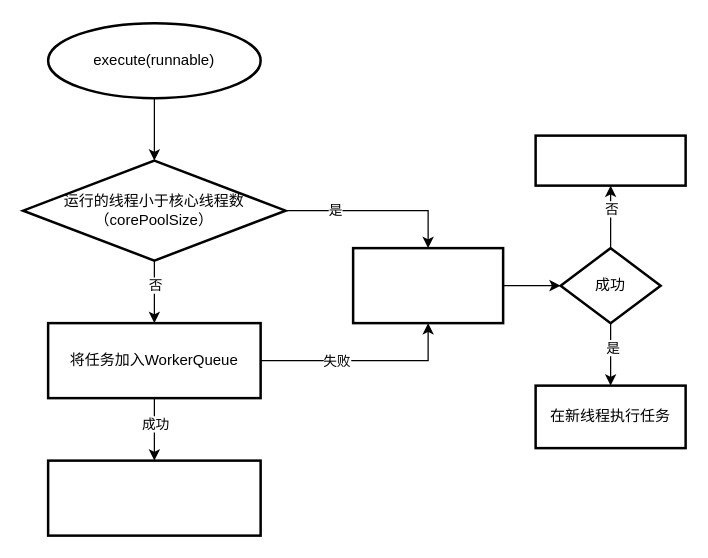
The diagram is 708 pixels wide and 558 high, and some of its shapes have lost their labels. Each missing label, with the centre of its shape:
"拒绝任务" goes at point (610, 160).
"新建线程" goes at point (427, 285).
"等待执行" goes at point (153, 497).
